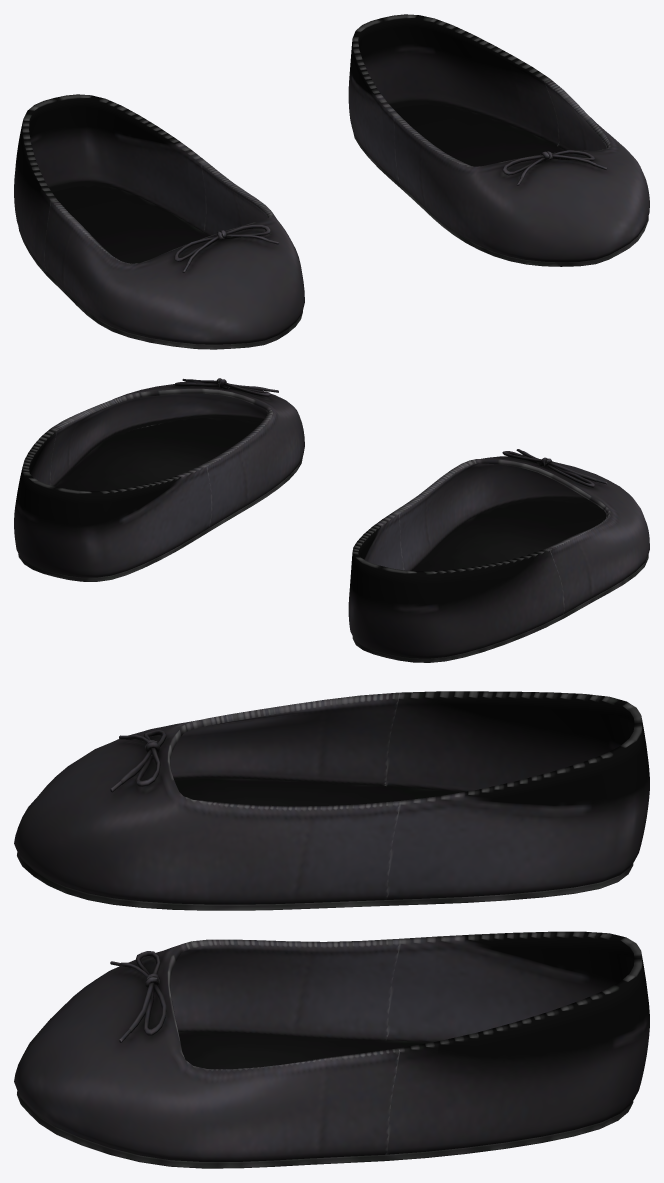
File: shoes2.glb
3 views of the same model, one above another, from view 1: azimuth 30°, elevation 25°; view 2: azimuth 150°, elevation 25°; view 3: azimuth 270°, elevation 25° (orthographic). The views are drawn at different scales.
Visible parts, largest first — view 1: s4studio_mesh_1; view 2: s4studio_mesh_1; view 3: s4studio_mesh_1.
Boxes of the visible parts, <box> form: s4studio_mesh_1: <box>14,14,649,349</box>; s4studio_mesh_1: <box>14,378,649,662</box>; s4studio_mesh_1: <box>14,691,649,1168</box>.
Bounding box in the file's own units: 3.93 × 0.6491 × 2.72.
1 material, 1 textured.
